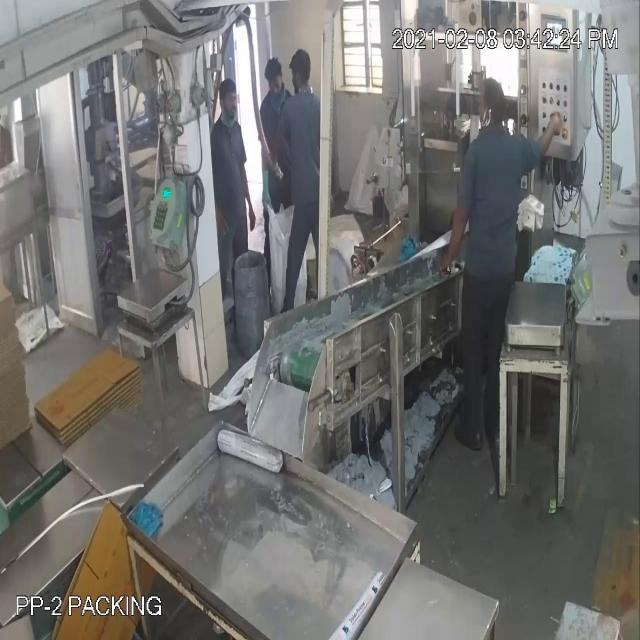No_Gloves: (30, 50, 549, 238)
